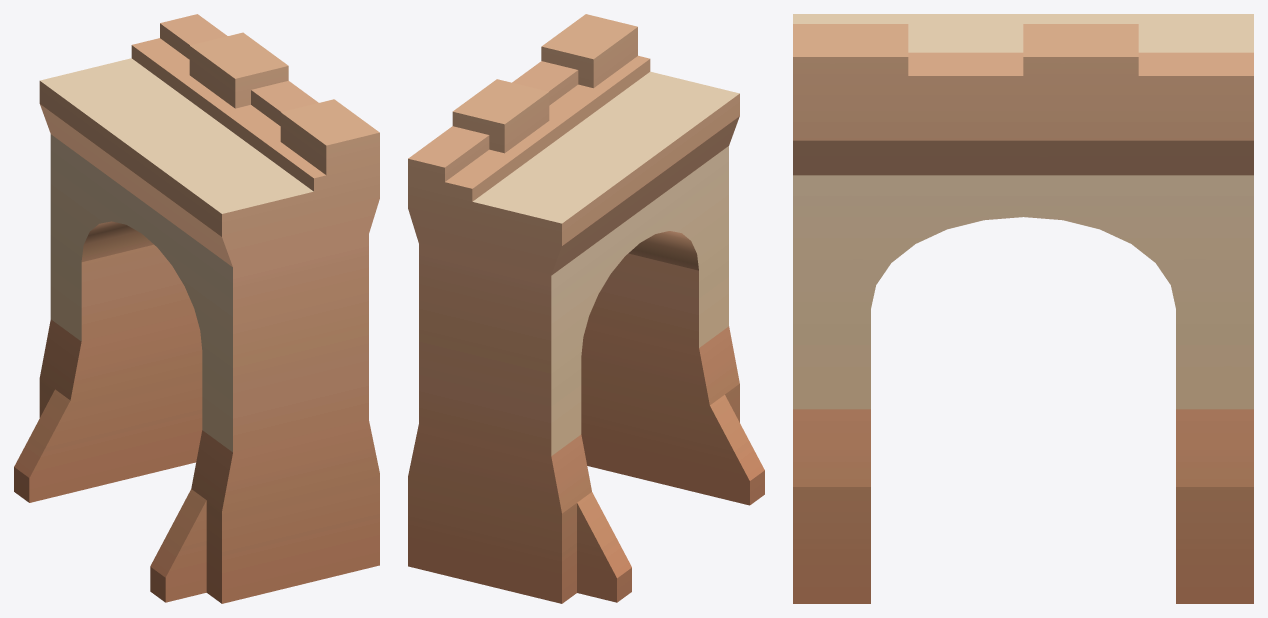
File: kit_gate_narrow.glb
The picture shows the model from 3 angles, left to right: view 1: azimuth 30°, elevation 25°; view 2: azimuth 150°, elevation 25°; view 3: azimuth 270°, elevation 25°; orthographic projection. The views are drawn at different scales.
Parts seen in each view (by area): view 1: wall-narrow-gate; view 2: wall-narrow-gate; view 3: wall-narrow-gate.
Boxes of the visible parts, <box> form: wall-narrow-gate: <box>14,14,379,603</box>; wall-narrow-gate: <box>408,14,764,603</box>; wall-narrow-gate: <box>793,14,1253,603</box>.
Bounding box in the file's own units: 2.89 × 6 × 4.58.
1 material, 1 textured.
